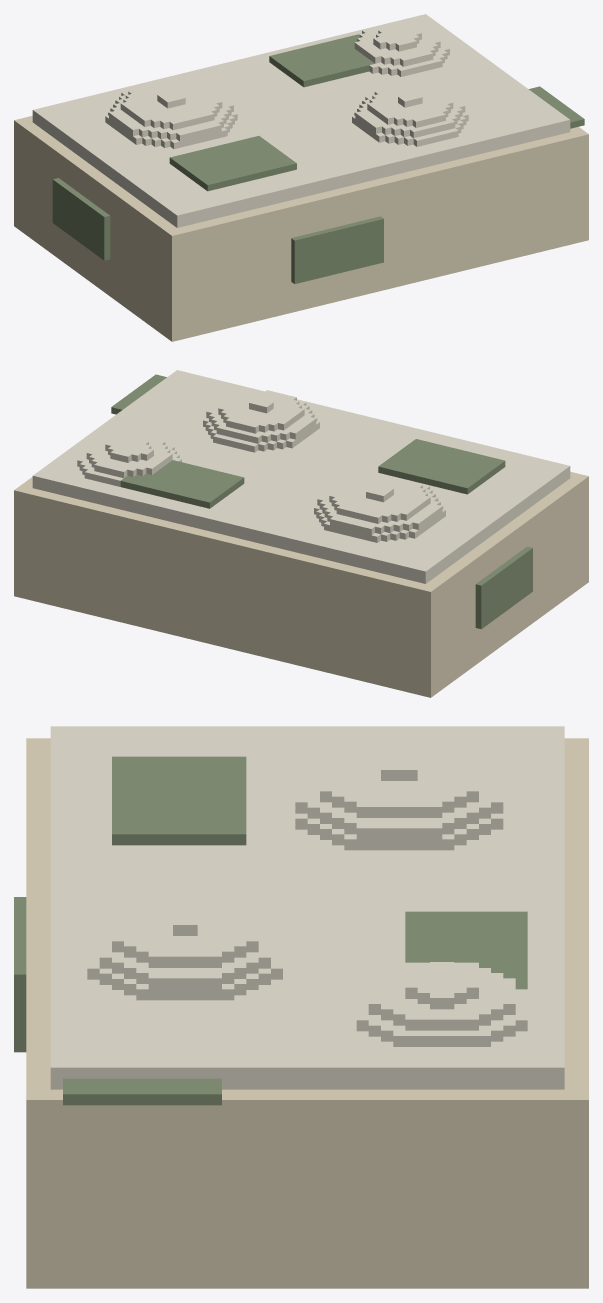
The model's file is soy_wheat_dough_done.glb.
The picture shows the model from 3 angles, top to bottom: view 1: azimuth 30°, elevation 25°; view 2: azimuth 150°, elevation 25°; view 3: azimuth 270°, elevation 25°; orthographic projection. The views are drawn at different scales.
Visible parts, largest first — view 1: soy_wheat_dough_done:compound; view 2: soy_wheat_dough_done:compound; view 3: soy_wheat_dough_done:compound.
Part boxes in pixels (x1,y1,x2,y2): soy_wheat_dough_done:compound: [14, 14, 588, 341]; soy_wheat_dough_done:compound: [14, 370, 588, 697]; soy_wheat_dough_done:compound: [14, 726, 588, 1288].
Size of the model in its own units: 0.144 by 0.046 by 0.094.
